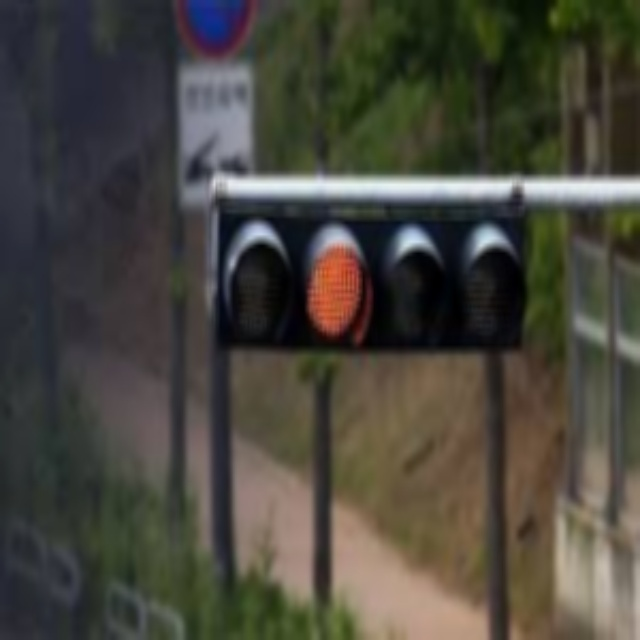yellow_light: (305, 251, 364, 340)
